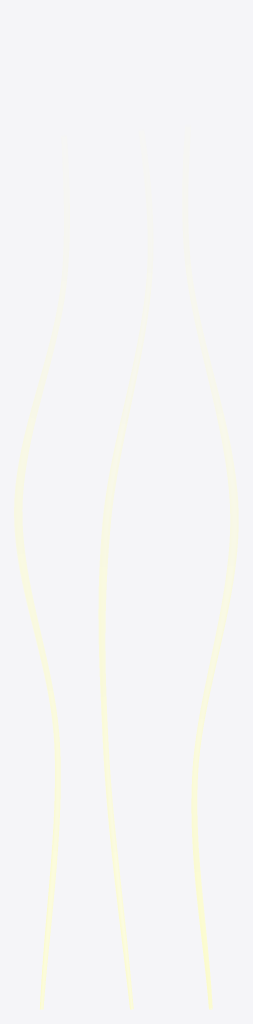
Rendered from strand_d_junction.glb.
3 views of the same model, side by side, from view 1: azimuth 90°, elevation 25°; view 2: azimuth 150°, elevation 25°; view 3: azimuth 270°, elevation 25° (orthographic).
Size of the model in its own units: 0.3336 by 7 by 0.3586.
